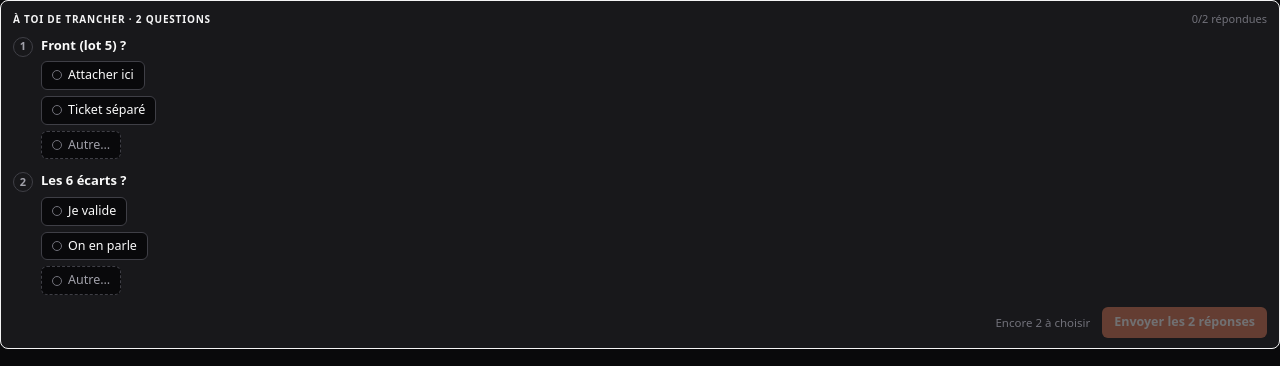
Test case: QuestionPicker › multiple questions: counts answers and only enables the send button once all are picked
The width and height of the screenshot is (1280, 366).
Expected: the text "0/2 répondues" is shown, [1192,11,1267,28]
Expected: the text "Encore 2 à choisir" is shown, [995,314,1090,331]
Click the radio button labelled "Ticket séparé".
click(99, 110)  # box [41,96,156,125]
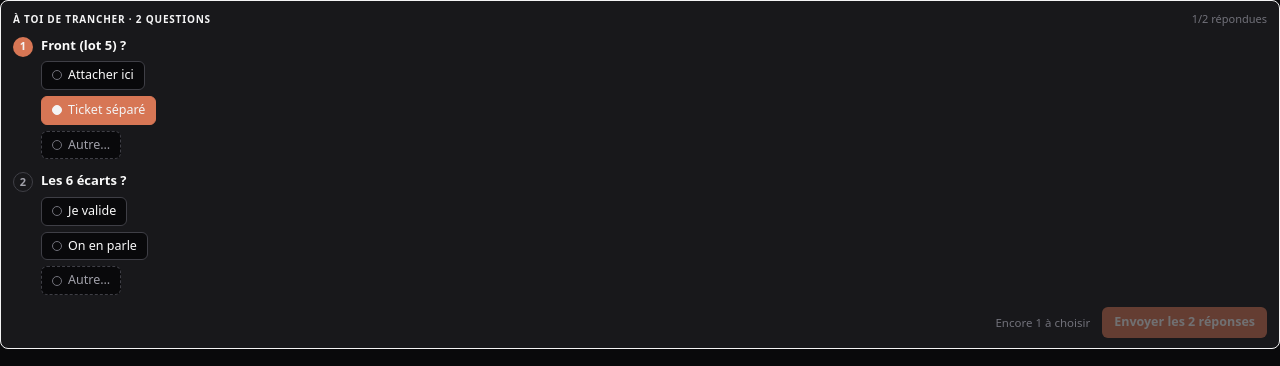
Expected: the button "Envoyer les 2 réponses" is disabled, [1102,307,1267,338]
Expected: the text "1/2 répondues" is shown, [1192,11,1267,28]
Expected: the text "Encore 1 à choisir" is shown, [995,314,1090,331]
Click the radio button labelled "Je valide".
click(84, 211)  # box [41,197,127,226]
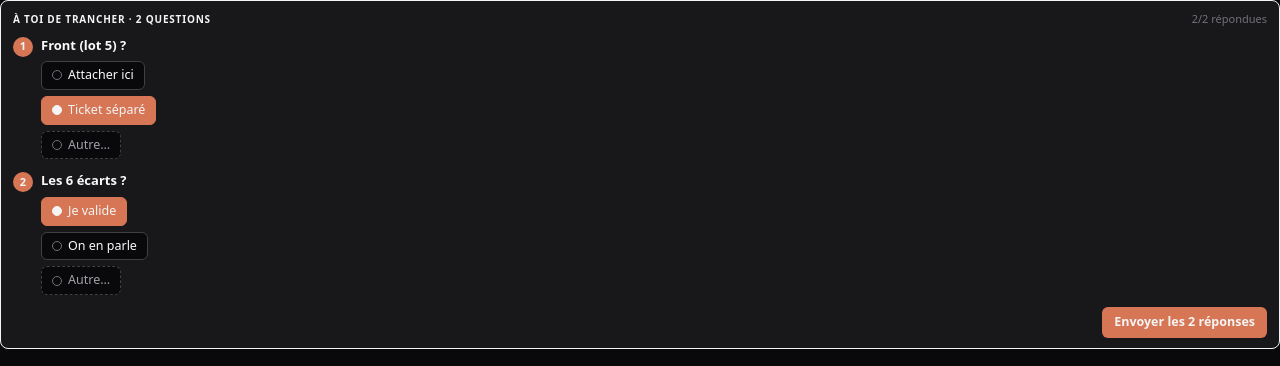
Expected: the button "Envoyer les 2 réponses" is enabled, [1102,307,1267,338]
